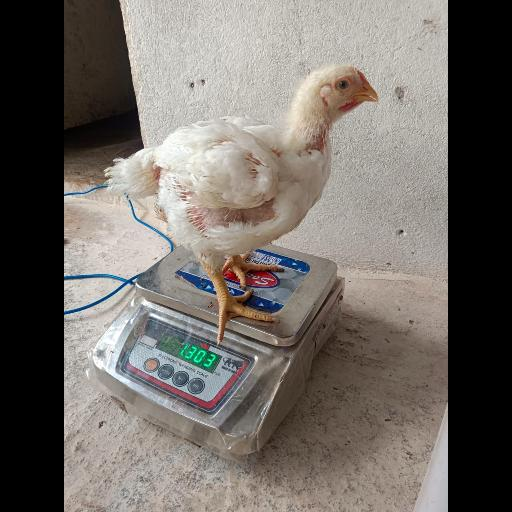chick: (106, 63, 377, 349)
